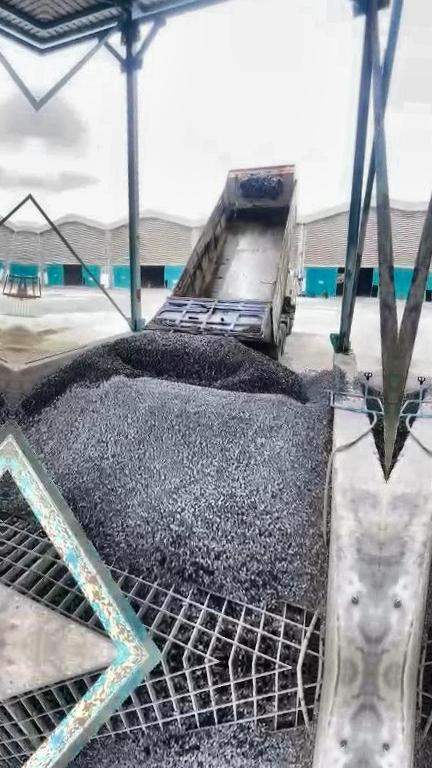gravel: (12, 331, 349, 608), (5, 473, 35, 521), (373, 415, 385, 466), (367, 379, 383, 411)
sand: (16, 322, 59, 365)
